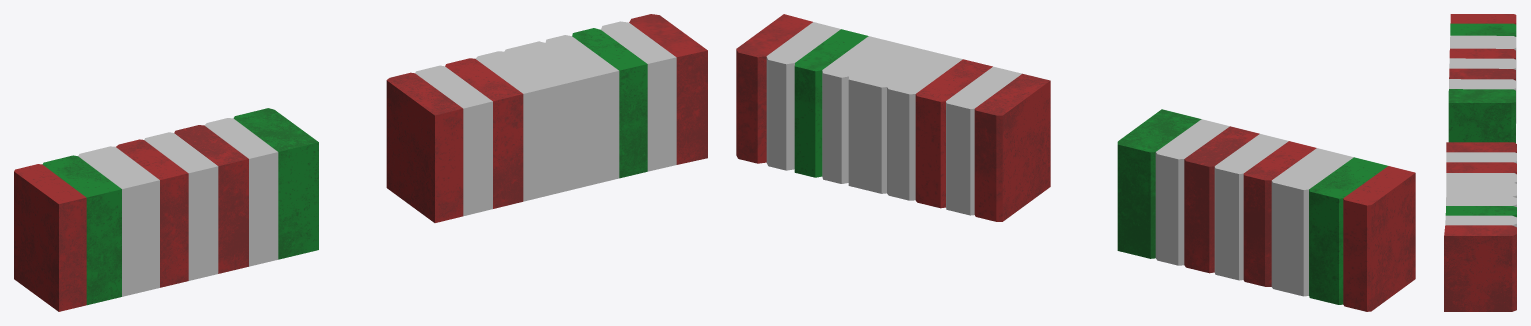
The model's file is book_many_2.fbx.
3 renders of one model, left to right at view 1: azimuth 30°, elevation 25°; view 2: azimuth 150°, elevation 25°; view 3: azimuth 270°, elevation 25°, orthographic. The views are drawn at different scales.
Parts seen in each view (by area): view 1: Cube.012; view 2: Cube.012; view 3: Cube.012.
Boxes of the visible parts, x1,y1,x2,y2 form: Cube.012: [14, 14, 707, 311]; Cube.012: [736, 14, 1415, 311]; Cube.012: [1444, 14, 1516, 311].
Bounding box in the file's own units: 812 × 130 × 113.
